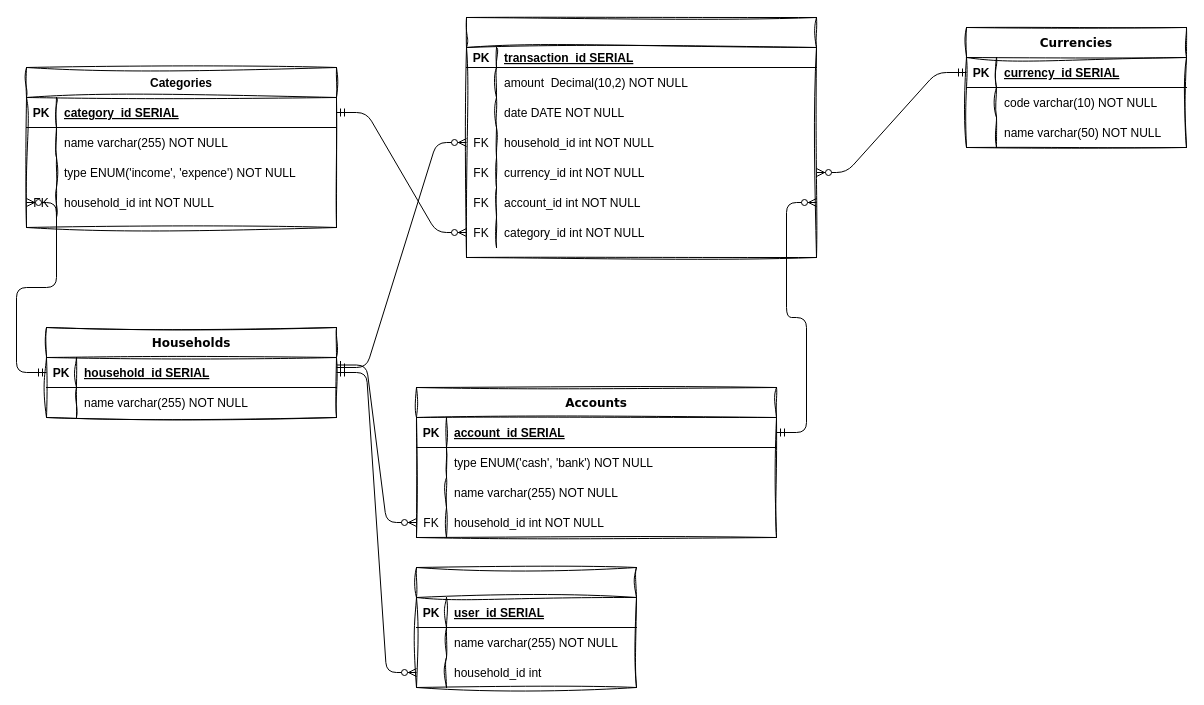
The diagram is 1204 pixels wide and 705 high, and some of its shapes have lost their labels. Here are the shapes that lost their labels. From the top down, the box of each, then its label:
(466, 16, 816, 258): Transactions
(416, 566, 636, 688): Users
